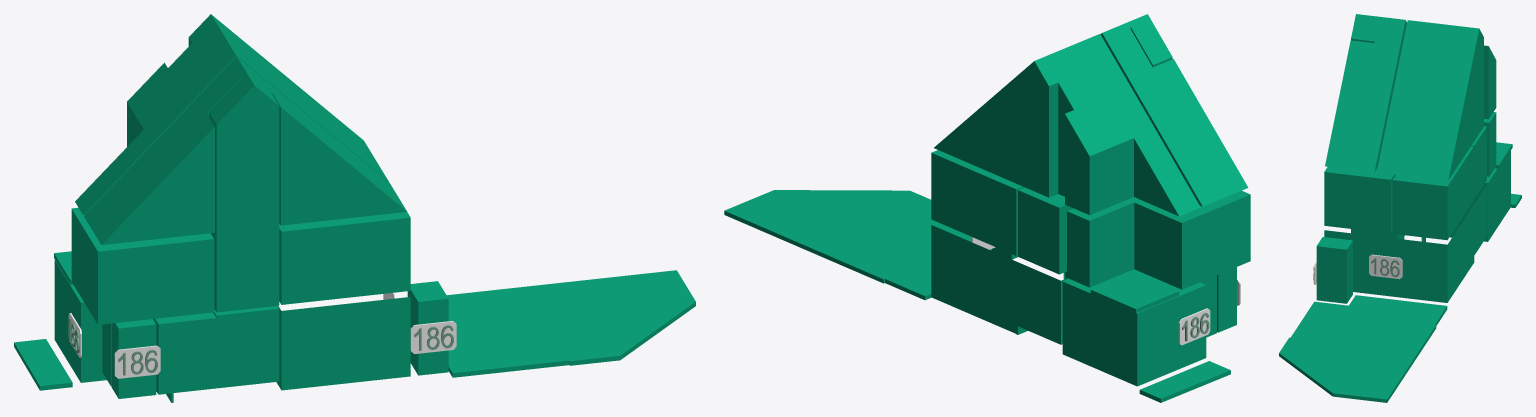
3 renders of one model, left to right at view 1: azimuth 30°, elevation 25°; view 2: azimuth 150°, elevation 25°; view 3: azimuth 270°, elevation 25°, orthographic. The views are drawn at different scales.
Parts seen in each view (by area): view 1: g_6, g_15, g_10, g_5, g_0, g_8, g_2, g_7, g_13, g_1, g_4, g_3 (+3 smaller); view 2: g_5, g_15, g_10, g_1, g_0, g_6, g_9, g_11, g_14, g_16, g_7, g_3 (+2 smaller); view 3: g_5, g_15, g_6, g_0, g_9, g_8, g_4, g_1, g_11, g_7, g_10, g_20 (+2 smaller).
Boxes of the visible parts, x1=… form: g_6: x1=84, y1=57, x2=407, y2=244; g_15: x1=447, y1=270, x2=695, y2=377; g_10: x1=71, y1=207, x2=214, y2=324; g_5: x1=75, y1=14, x2=388, y2=215; g_0: x1=276, y1=297, x2=410, y2=390; g_8: x1=279, y1=212, x2=410, y2=304; g_2: x1=102, y1=306, x2=279, y2=402; g_7: x1=209, y1=72, x2=279, y2=232; g_13: x1=211, y1=226, x2=279, y2=312; g_1: x1=54, y1=260, x2=106, y2=382; g_4: x1=407, y1=281, x2=448, y2=375; g_3: x1=111, y1=319, x2=156, y2=398; g_5: x1=934, y1=34, x2=1200, y2=216; g_15: x1=724, y1=190, x2=991, y2=300; g_10: x1=1067, y1=190, x2=1250, y2=289; g_1: x1=1062, y1=269, x2=1206, y2=386; g_0: x1=931, y1=225, x2=1068, y2=344; g_6: x1=1100, y1=23, x2=1248, y2=206; g_9: x1=931, y1=150, x2=1024, y2=255; g_11: x1=1018, y1=187, x2=1073, y2=274; g_14: x1=1090, y1=272, x2=1179, y2=313; g_16: x1=1139, y1=361, x2=1230, y2=402; g_7: x1=1126, y1=14, x2=1172, y2=67; g_3: x1=1217, y1=267, x2=1236, y2=332; g_5: x1=1377, y1=20, x2=1496, y2=180; g_15: x1=1279, y1=295, x2=1447, y2=402; g_6: x1=1325, y1=17, x2=1406, y2=171; g_0: x1=1324, y1=184, x2=1487, y2=302; g_9: x1=1392, y1=146, x2=1473, y2=240; g_8: x1=1324, y1=166, x2=1395, y2=233; g_4: x1=1316, y1=237, x2=1352, y2=303; g_1: x1=1450, y1=150, x2=1510, y2=241; g_11: x1=1471, y1=126, x2=1486, y2=199; g_7: x1=1351, y1=14, x2=1379, y2=42; g_10: x1=1484, y1=112, x2=1496, y2=176; g_20: x1=1369, y1=254, x2=1402, y2=279.
Bounding box in the file's own units: 20.43 × 10.25 × 9.81.
